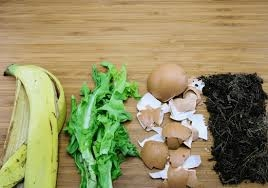kitchen_waste: (64, 60, 139, 188), (1, 63, 69, 188), (197, 70, 268, 186), (144, 60, 191, 105), (158, 120, 196, 153), (136, 137, 173, 170), (164, 162, 200, 188)
